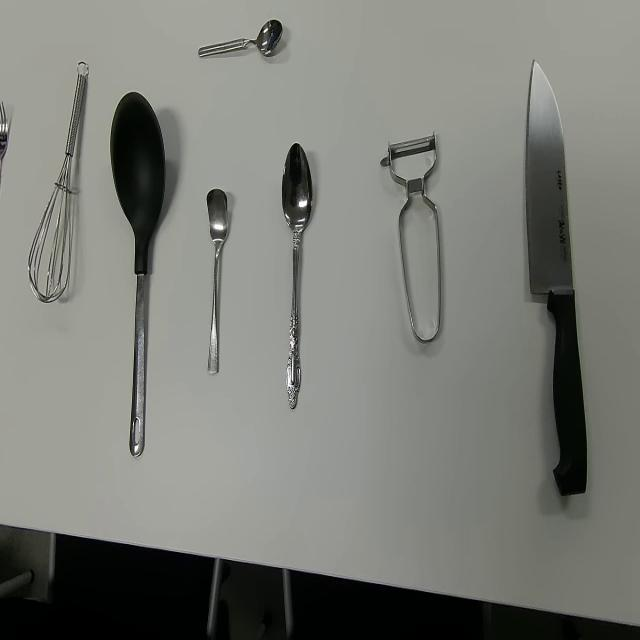Desert-Spoon: (282, 142, 314, 412)
Dinner-Fork: (0, 99, 9, 185)
Kitchen-Knife: (524, 57, 588, 498)
Peeler: (379, 129, 442, 344)
Serving-Spoon: (110, 90, 167, 461)
Tea-Spoon: (206, 187, 228, 375), (197, 18, 283, 59)
Whisk: (27, 60, 90, 304)
